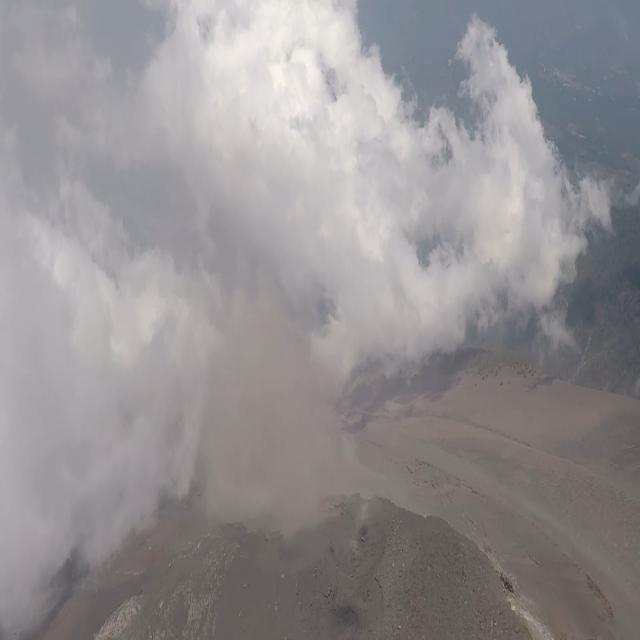Summit: (73, 453, 563, 640)
